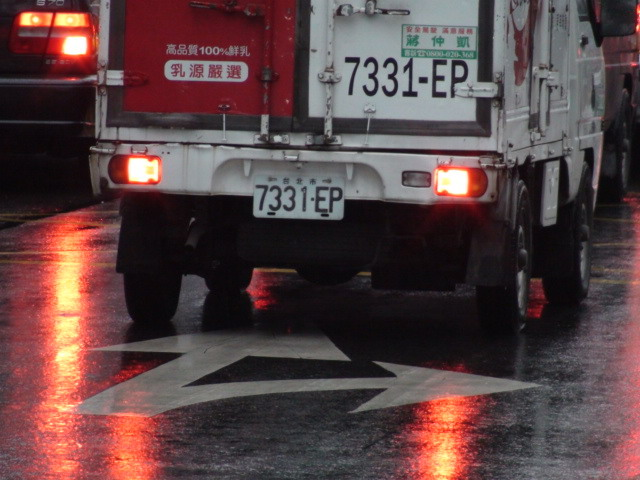plate: (251, 169, 348, 227)
